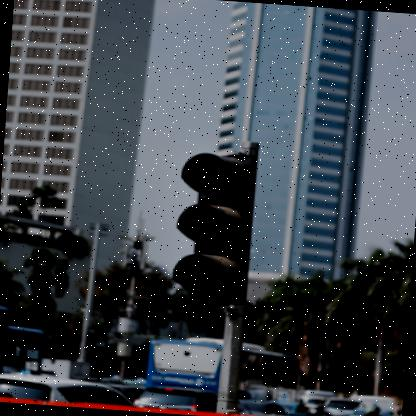trafficlight: (171, 146, 267, 308)
